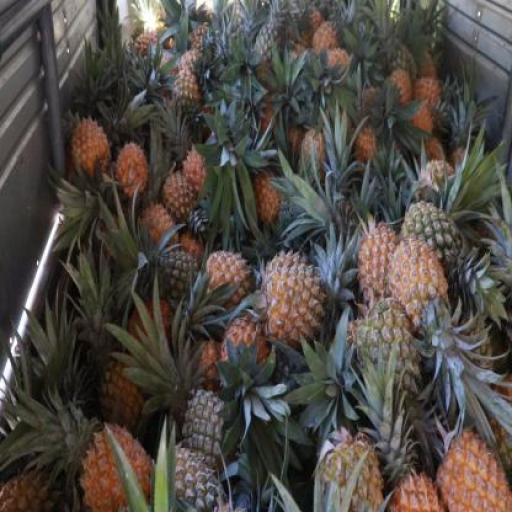------------------------------: (359, 305, 426, 406), (404, 201, 468, 299), (105, 358, 156, 433), (170, 69, 202, 127)
Pineapple - v8 v1: (82, 424, 159, 511), (390, 245, 453, 347), (261, 252, 324, 346), (436, 430, 510, 510), (360, 229, 409, 317), (222, 320, 270, 399), (206, 248, 249, 305), (71, 115, 110, 175), (162, 171, 200, 218), (116, 144, 146, 203)
